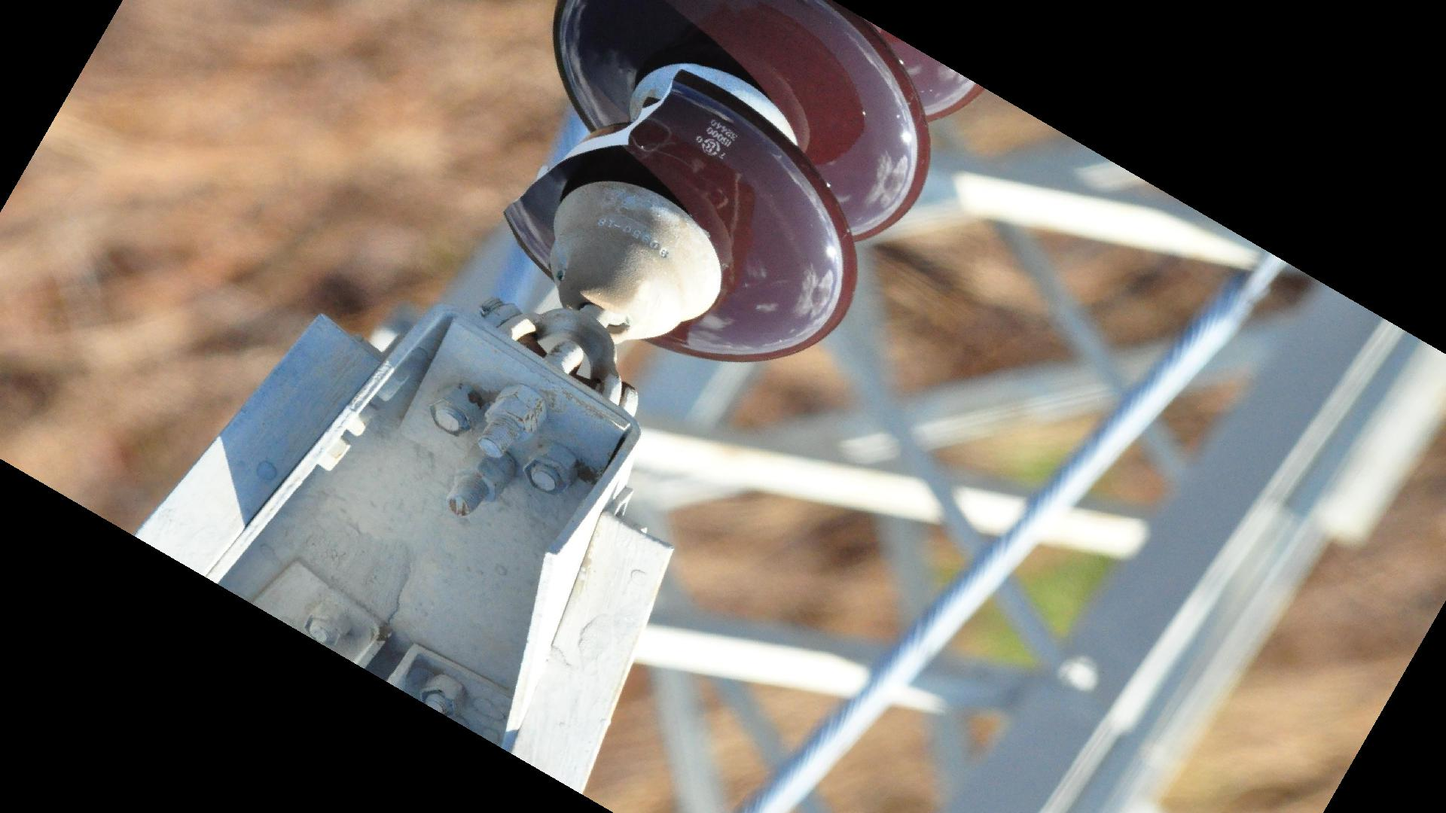insulator: (490, 1, 990, 372)
insulator_breakage: (492, 62, 710, 236)
